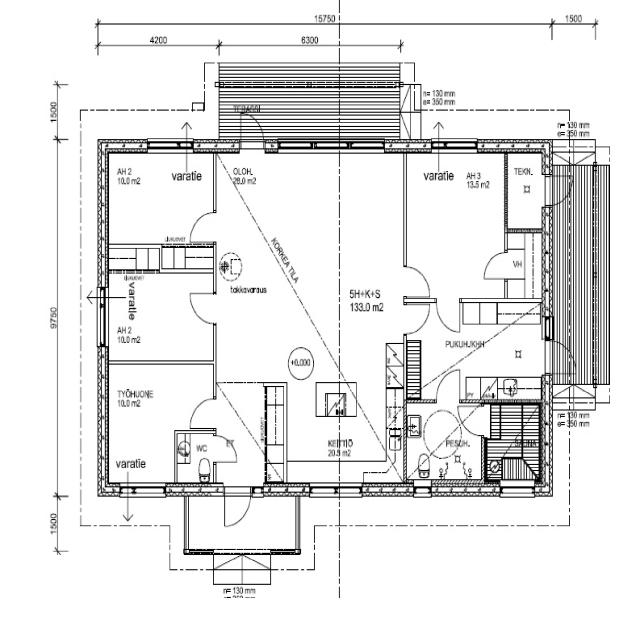door: (222, 484, 254, 530), (400, 297, 434, 338), (400, 261, 435, 300), (238, 110, 266, 154), (434, 296, 464, 336), (479, 246, 511, 282), (187, 208, 218, 245), (187, 394, 217, 432), (434, 366, 462, 406), (187, 288, 218, 324), (458, 403, 487, 440), (211, 433, 239, 465), (552, 174, 572, 209)
window: (94, 295, 110, 349), (121, 483, 169, 500), (436, 137, 478, 155), (499, 481, 536, 500), (146, 138, 186, 153), (308, 482, 340, 500), (336, 482, 364, 500), (411, 482, 434, 502), (209, 322, 219, 365)
zone: (402, 150, 506, 298), (102, 361, 207, 477), (103, 266, 216, 364), (105, 150, 215, 245), (403, 404, 486, 489), (484, 399, 545, 474), (506, 150, 549, 234), (502, 232, 545, 302), (175, 431, 215, 486), (109, 246, 164, 272)
